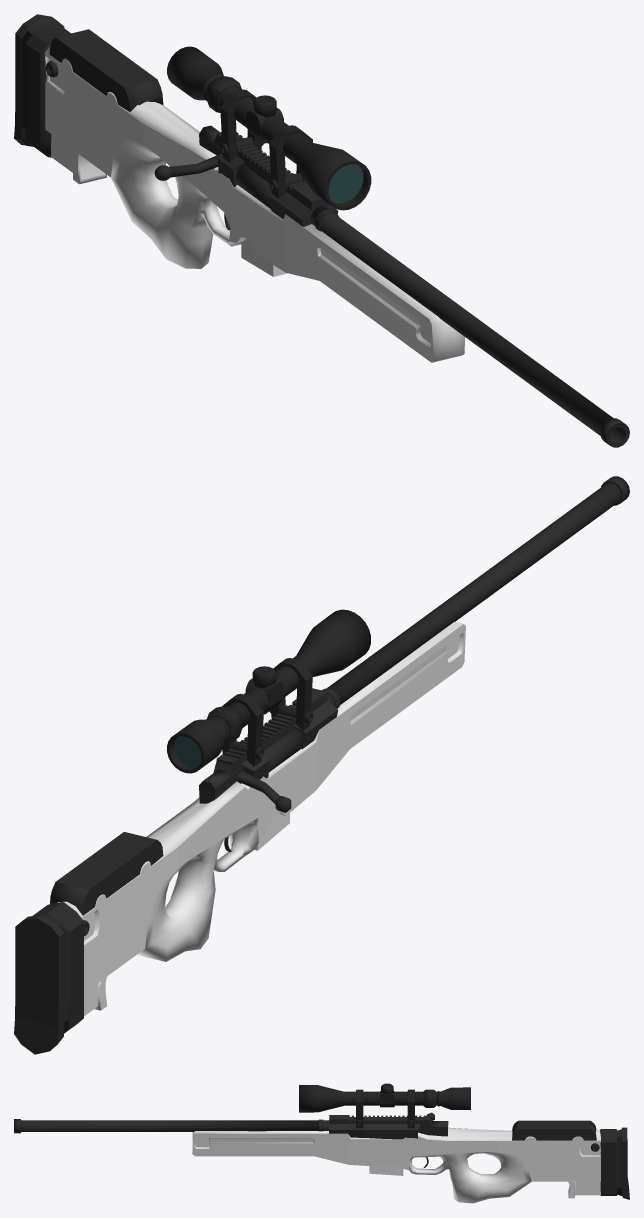
File: Awp.fbx
3 views of the same model, one above another, from view 1: azimuth 30°, elevation 25°; view 2: azimuth 150°, elevation 25°; view 3: azimuth 270°, elevation 25° (orthographic). The views are drawn at different scales.
Parts seen in each view (by area): view 1: Arma, Mira, Arma.004, Arma.002, Arma.003; view 2: Arma, Mira, Arma.004, Arma.002; view 3: Arma, Mira, Arma.004, Pente.
Boxes of the visible parts, x1,y1,x2,y2 form: Arma: [14, 14, 629, 447]; Mira: [167, 46, 371, 210]; Arma.004: [199, 125, 338, 226]; Arma.002: [235, 165, 271, 208]; Arma.003: [154, 154, 219, 180]; Arma: [14, 476, 629, 1054]; Mira: [167, 609, 370, 773]; Arma.004: [199, 688, 337, 803]; Arma.002: [264, 729, 303, 772]; Arma: [14, 1119, 629, 1203]; Mira: [299, 1083, 470, 1128]; Arma.004: [329, 1115, 448, 1139]; Pente: [369, 1162, 403, 1175].
Bounding box in the file's own units: 87.49 × 200 × 980.
